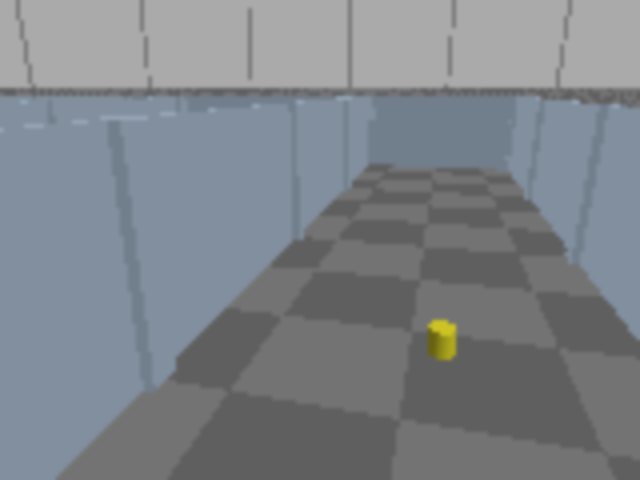puck: (426, 321, 457, 359)
